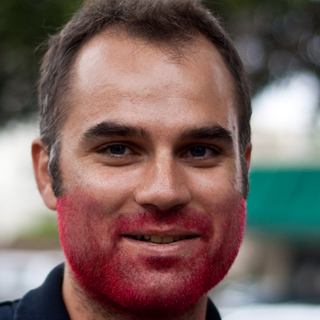eye: (87, 138, 149, 166), (169, 138, 222, 166)
